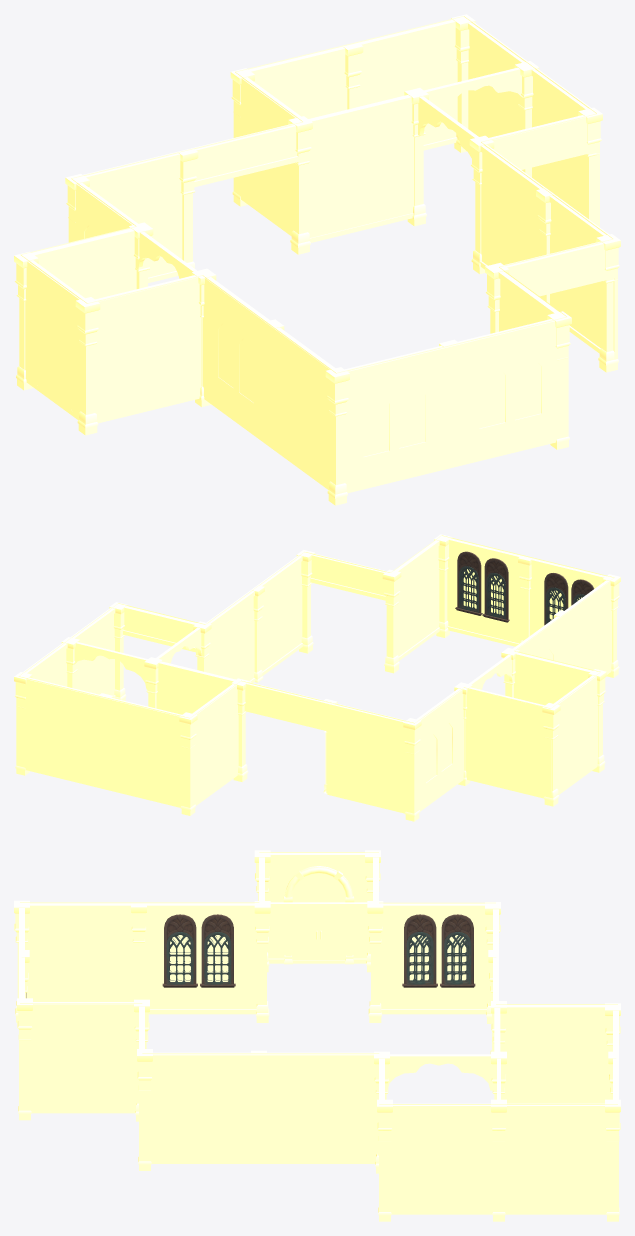
File: Homeworld_Interior_Md_Room_K_Wall_01_Vo.fbx
The picture shows the model from 3 angles, top to bottom: view 1: azimuth 30°, elevation 25°; view 2: azimuth 150°, elevation 25°; view 3: azimuth 270°, elevation 25°; orthographic projection. The views are drawn at different scales.
Parts seen in each view (by area): view 1: Homeworld_Interior_Md_Room_Wall_01_Vo (×13), Homeworld_Interior_Md_Room_Wall_02_Vo (×4), Homeworld_Interior_Md_Room_Pillar_01_Vo (×14), Homeworld_Interior_Md_Room_Wall_08_Vo (×3), Homeworld_Interior_Md_Room_K_Filling_01_Vo, Homeworld_Interior_Md_Room_Wall_07_Vo, Homeworld_Interior_Md_Room_Wall_04_Vo (×3), Homeworld_Interior_Md_Room_Pillar_02_Vo (×3); view 2: Homeworld_Interior_Md_Room_Wall_01_Vo (×13), Homeworld_Interior_Md_Room_Wall_02_Vo (×4), Homeworld_Interior_Md_Room_Pillar_01_Vo (×15), Homeworld_Interior_Md_Room_Wall_08_Vo (×3), Homeworld_Interior_Md_Room_Wall_07_Vo, Homeworld_Interior_Md_Room_K_Filling_01_Vo, Homeworld_Interior_Md_Room_Wall_04_Vo (×3), Homeworld_Interior_Md_Room_Pillar_02_Vo (×2); view 3: Homeworld_Interior_Md_Room_Wall_01_Vo (×7), Homeworld_Interior_Md_Room_Wall_02_Vo (×3), Homeworld_Interior_Md_Room_Pillar_01_Vo (×14), Homeworld_Interior_Md_Room_Wall_07_Vo, Homeworld_Interior_Md_Room_K_Filling_01_Vo, Homeworld_Interior_Md_Room_Wall_04_Vo (×2), Homeworld_Interior_Md_Room_Pillar_02_Vo.
Boxes of the visible parts, x1,y1,x2,y2 form: Homeworld_Interior_Md_Room_Wall_01_Vo (×13): (32,19,617,489); Homeworld_Interior_Md_Room_Wall_02_Vo (×4): (70,183,565,493); Homeworld_Interior_Md_Room_Pillar_01_Vo (×14): (14,14,620,505); Homeworld_Interior_Md_Room_Wall_08_Vo (×3): (185,115,617,296); Homeworld_Interior_Md_Room_K_Filling_01_Vo: (20,16,613,452); Homeworld_Interior_Md_Room_Wall_07_Vo: (25,260,84,420); Homeworld_Interior_Md_Room_Wall_04_Vo (×3): (135,67,522,278); Homeworld_Interior_Md_Room_Pillar_02_Vo (×3): (179,43,552,303); Homeworld_Interior_Md_Room_Wall_01_Vo (×13): (16,540,611,813); Homeworld_Interior_Md_Room_Wall_02_Vo (×4): (416,538,605,812); Homeworld_Interior_Md_Room_Pillar_01_Vo (×15): (14,534,620,821); Homeworld_Interior_Md_Room_Wall_08_Vo (×3): (123,553,386,730); Homeworld_Interior_Md_Room_Wall_07_Vo: (549,675,598,797); Homeworld_Interior_Md_Room_K_Filling_01_Vo: (18,535,614,793); Homeworld_Interior_Md_Room_Wall_04_Vo (×3): (74,627,514,689); Homeworld_Interior_Md_Room_Pillar_02_Vo (×2): (252,556,532,682); Homeworld_Interior_Md_Room_Wall_01_Vo (×7): (22,903,618,1214); Homeworld_Interior_Md_Room_Wall_02_Vo (×3): (19,903,488,1110); Homeworld_Interior_Md_Room_Pillar_01_Vo (×14): (14,850,620,1221); Homeworld_Interior_Md_Room_Wall_07_Vo: (267,853,368,964); Homeworld_Interior_Md_Room_K_Filling_01_Vo: (20,852,617,1104); Homeworld_Interior_Md_Room_Wall_04_Vo (×2): (268,902,493,1090); Homeworld_Interior_Md_Room_Pillar_02_Vo: (131,904,146,999).
Size of what is drawn, in the model's own units: 25.27 by 5.36 by 25.3.
